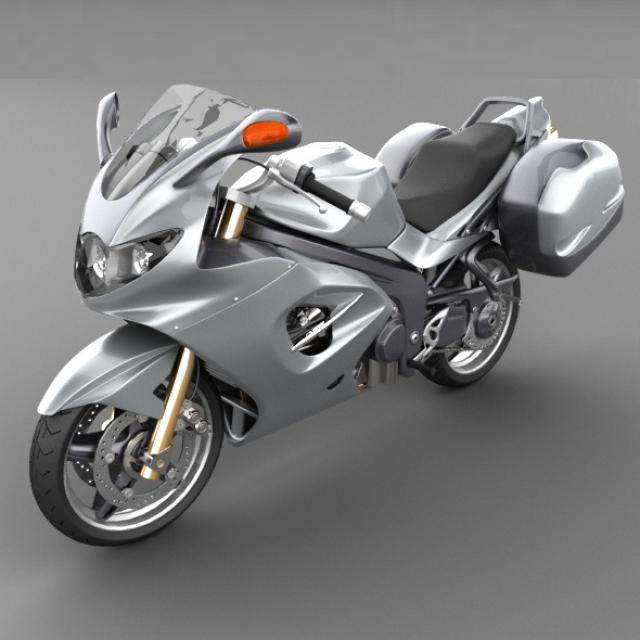Motorcycle: (30, 85, 626, 546)
